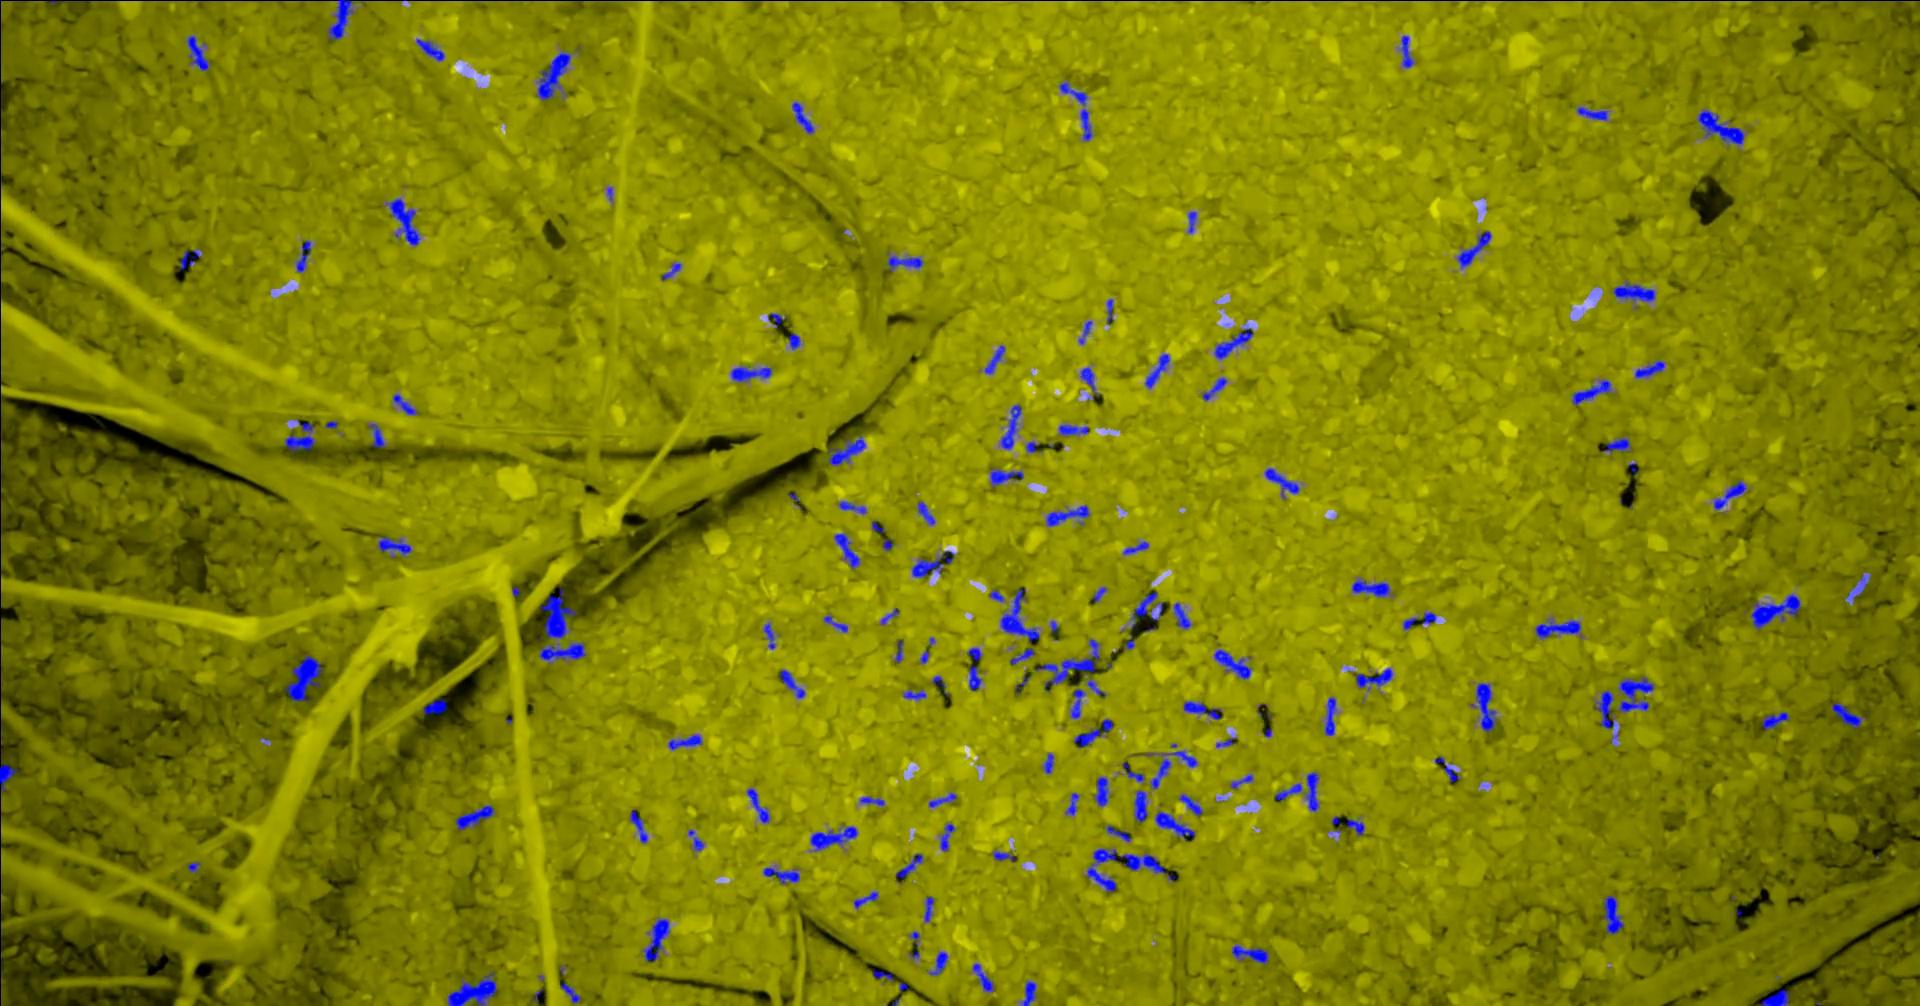ant: (1037, 638, 1101, 691), (1002, 588, 1041, 641), (1152, 743, 1197, 788), (1060, 81, 1095, 140), (1752, 593, 1802, 630), (542, 587, 578, 638), (286, 655, 323, 701), (538, 50, 571, 100), (1699, 109, 1746, 145), (387, 197, 422, 245), (450, 970, 498, 1005), (329, 0, 366, 39), (1458, 230, 1493, 268), (1470, 682, 1498, 730), (1217, 326, 1255, 359), (1620, 676, 1655, 711), (811, 824, 858, 850), (1156, 810, 1196, 840), (1215, 649, 1253, 680), (644, 918, 670, 962), (1266, 467, 1302, 499), (913, 550, 955, 577), (829, 434, 867, 464), (1131, 591, 1161, 627), (1076, 718, 1114, 746), (286, 419, 317, 452), (1573, 379, 1611, 405), (1716, 479, 1749, 509), (457, 804, 497, 829), (541, 641, 587, 663), (1002, 404, 1023, 448), (1537, 619, 1583, 639), (1048, 504, 1091, 526), (836, 533, 862, 568), (1614, 281, 1657, 301), (1145, 353, 1171, 387), (1832, 702, 1867, 728), (1603, 895, 1625, 934), (1357, 667, 1394, 690), (188, 36, 211, 71), (748, 788, 771, 822), (897, 854, 924, 882), (1595, 690, 1615, 728), (781, 669, 806, 699), (1848, 572, 1872, 602), (792, 102, 815, 133), (1185, 700, 1223, 719), (1352, 579, 1393, 597), (888, 251, 924, 271), (1233, 945, 1270, 964), (378, 535, 413, 555), (731, 366, 773, 382), (968, 647, 983, 690), (990, 467, 1025, 486), (1436, 756, 1462, 781), (417, 38, 446, 60), (974, 962, 996, 991), (631, 809, 649, 843), (1, 763, 19, 796), (1203, 377, 1228, 400), (985, 345, 1006, 373), (1081, 367, 1098, 399), (764, 868, 801, 883), (1307, 771, 1321, 810), (394, 392, 419, 414), (1636, 359, 1666, 377), (1763, 711, 1790, 730), (1180, 794, 1204, 815), (1072, 681, 1086, 718), (297, 239, 312, 272), (670, 734, 703, 749), (1326, 696, 1338, 735), (1276, 782, 1304, 800), (928, 951, 949, 976), (1123, 761, 1145, 781), (1763, 988, 1790, 1005), (1175, 602, 1192, 627), (1011, 647, 1036, 664), (855, 890, 880, 908), (1604, 437, 1633, 452), (1401, 36, 1415, 67), (182, 248, 202, 269), (563, 982, 582, 1005), (370, 423, 387, 447), (825, 615, 850, 633), (1578, 105, 1609, 119), (1096, 776, 1110, 807), (1135, 790, 1149, 821), (941, 823, 956, 851), (1107, 824, 1133, 841), (930, 793, 959, 807), (919, 500, 936, 525), (662, 262, 683, 279), (424, 699, 448, 714), (1230, 774, 1255, 789), (1022, 981, 1037, 1005), (841, 500, 869, 513), (1124, 541, 1150, 554), (1088, 678, 1107, 696), (1347, 817, 1366, 835), (1079, 320, 1093, 344), (690, 829, 705, 851), (764, 622, 776, 649), (1060, 424, 1090, 434), (1067, 793, 1079, 815), (924, 895, 936, 921), (935, 674, 949, 695), (770, 312, 787, 328), (883, 608, 900, 624), (994, 848, 1017, 860), (861, 795, 886, 805), (874, 969, 895, 981), (1044, 753, 1055, 774), (1095, 586, 1109, 602), (905, 688, 927, 699), (1217, 737, 1238, 747), (790, 333, 803, 349), (897, 639, 905, 662), (1422, 611, 1437, 624), (1189, 211, 1197, 232), (1027, 441, 1044, 452), (44, 0, 110, 3), (1109, 298, 1115, 324), (990, 589, 1004, 601), (1404, 617, 1418, 629), (189, 861, 201, 873), (1855, 0, 1907, 1)
